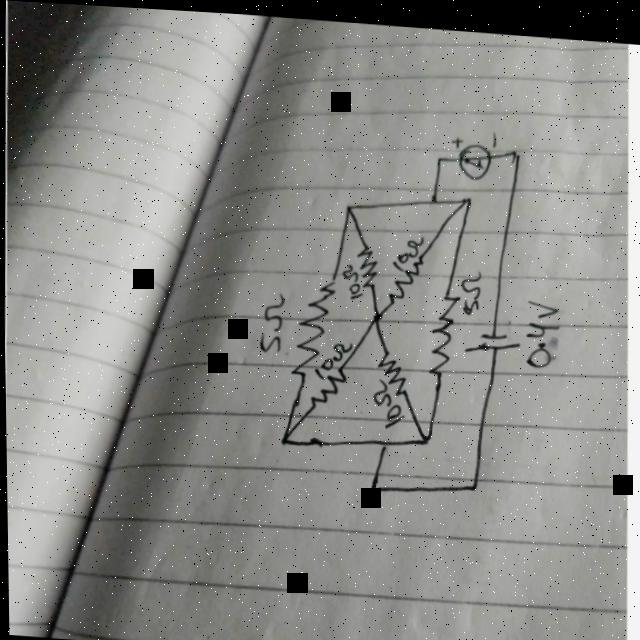junction: (425, 186, 440, 201), (276, 428, 290, 443), (466, 473, 480, 488), (368, 305, 383, 319), (342, 198, 356, 213), (507, 142, 522, 156), (377, 432, 391, 446), (365, 476, 379, 490), (418, 427, 432, 441), (459, 188, 473, 202), (432, 148, 446, 162)
resistor: (286, 272, 337, 376), (425, 285, 461, 372), (384, 247, 424, 303), (306, 361, 346, 407), (374, 342, 408, 393), (353, 237, 378, 282)
source: (460, 322, 519, 352)
text: (522, 290, 560, 365), (255, 286, 287, 350), (311, 333, 353, 377), (370, 371, 404, 425), (389, 229, 423, 268), (457, 263, 483, 310), (339, 259, 362, 295)
